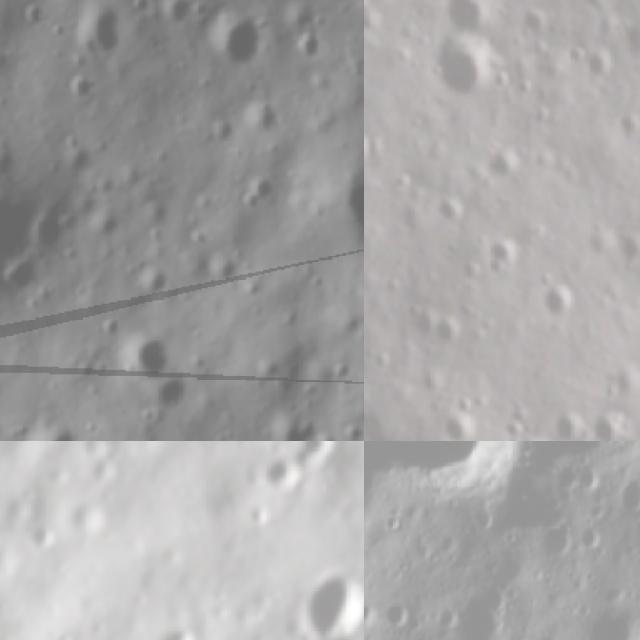crater: (280, 561, 364, 640), (364, 441, 511, 485), (242, 452, 314, 522), (196, 8, 270, 76), (432, 36, 498, 102), (69, 0, 123, 64), (10, 514, 68, 571), (277, 441, 350, 483), (432, 0, 498, 36), (432, 308, 475, 362), (532, 280, 578, 328), (487, 143, 532, 189), (483, 231, 524, 278), (431, 186, 468, 238), (581, 50, 623, 94), (440, 401, 486, 441), (130, 335, 172, 378), (13, 441, 102, 461), (593, 404, 633, 441), (21, 417, 81, 441), (615, 225, 640, 277), (552, 407, 590, 441), (146, 618, 204, 640), (364, 124, 384, 175), (621, 470, 640, 510), (364, 5, 381, 32)
